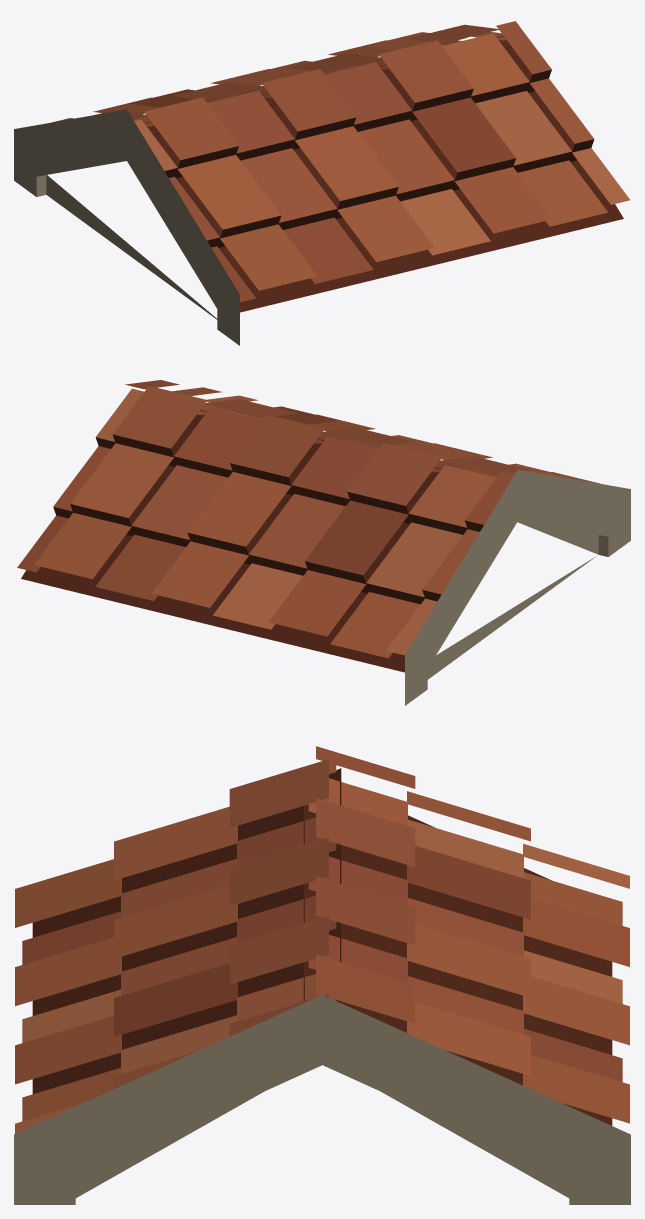
File: roof-gable-top-tile.glb
3 renders of one model, top to bottom at view 1: azimuth 30°, elevation 25°; view 2: azimuth 150°, elevation 25°; view 3: azimuth 270°, elevation 25°, orthographic. The views are drawn at different scales.
Parts seen in each view (by area): view 1: roof-gable-top-tile; view 2: roof-gable-top-tile; view 3: roof-gable-top-tile.
Part boxes in pixels (x1=…): roof-gable-top-tile: x1=14, y1=21, x2=630, y2=345; roof-gable-top-tile: x1=17, y1=380, x2=630, y2=705; roof-gable-top-tile: x1=14, y1=746, x2=630, y2=1204.
Size of the model in its own units: 1 by 0.3759 by 1.
